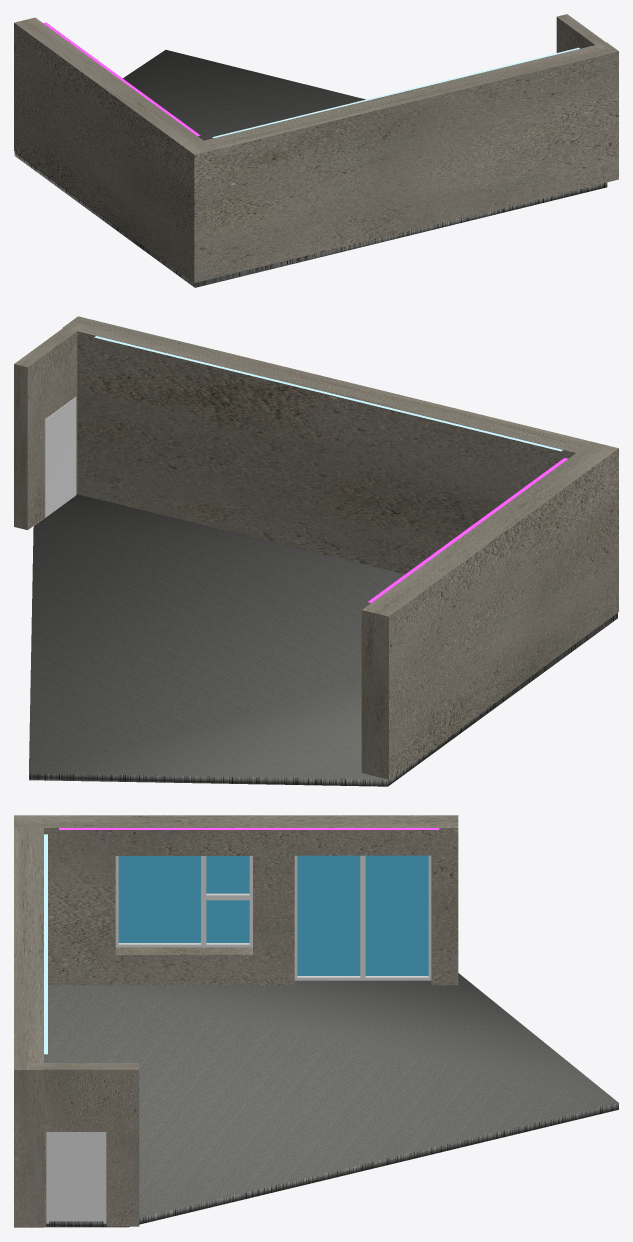
The model's file is AR-Room3.fbx.
3 renders of one model, top to bottom at view 1: azimuth 30°, elevation 25°; view 2: azimuth 150°, elevation 25°; view 3: azimuth 270°, elevation 25°, orthographic. The views are drawn at different scales.
Visible parts, largest first — view 1: NE Wall, SE Wall, Floor, Door Wall, Plane, Plane.001; view 2: Floor, NE Wall, SE Wall, Door Wall, doors, Plane, Plane.001; view 3: Floor, SE Wall, Windows.002, NE Wall, Door Wall, doors, Windows, Plane, Plane.001.
Part boxes in pixels (x1,y1,x2,y2): NE Wall: (194, 42, 618, 282); SE Wall: (14, 17, 215, 282); Floor: (14, 50, 607, 287); Door Wall: (556, 14, 611, 52); Plane: (212, 47, 579, 137); Plane.001: (43, 22, 200, 136); Floor: (29, 494, 617, 786); NE Wall: (63, 316, 591, 574); SE Wall: (361, 442, 618, 780); Door Wall: (14, 322, 84, 530); doors: (44, 397, 76, 517); Plane: (94, 336, 562, 451); Plane.001: (368, 458, 567, 602); Floor: (44, 973, 618, 1227); SE Wall: (14, 815, 458, 985); Windows.002: (118, 855, 428, 975); NE Wall: (14, 828, 43, 1227); Door Wall: (29, 1063, 139, 1226); doors: (46, 1132, 106, 1223); Windows: (115, 855, 431, 980); Plane: (44, 834, 47, 1054); Plane.001: (59, 828, 439, 829).
Bounding box in the file's own units: 1214 × 365 × 1218.
